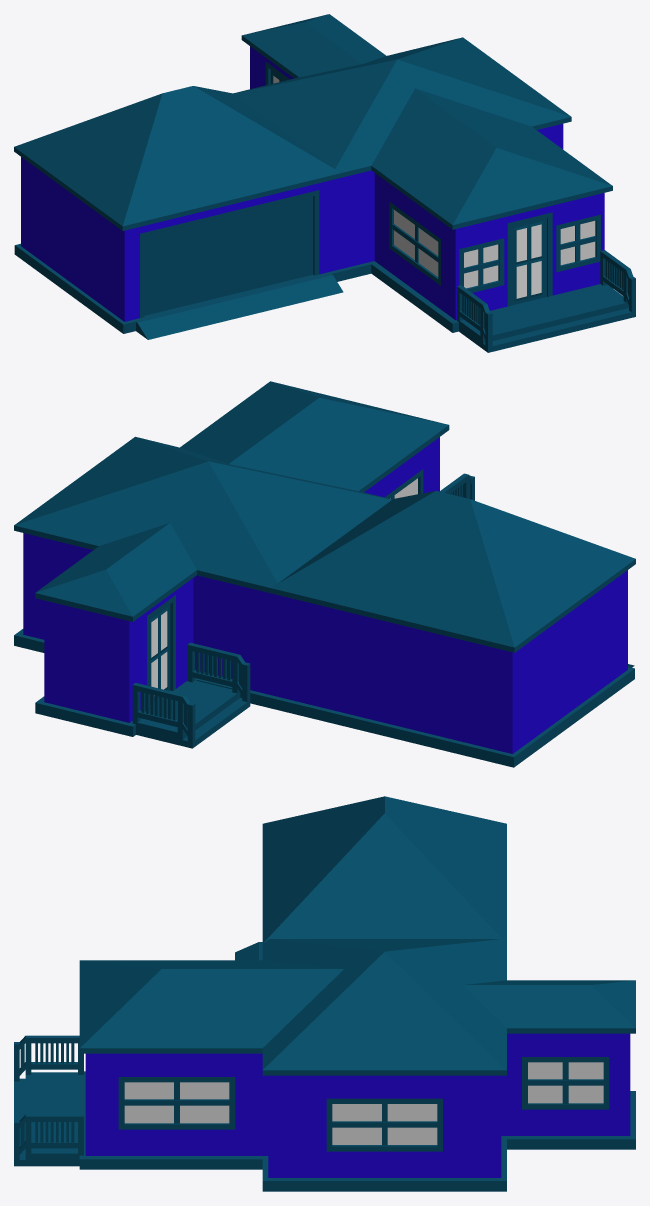
Rendered from House #23.fbx.
3 views of the same model, one above another, from view 1: azimuth 30°, elevation 25°; view 2: azimuth 150°, elevation 25°; view 3: azimuth 270°, elevation 25° (orthographic). The views are drawn at different scales.
Visible parts, largest first — view 1: building_001; view 2: building_001; view 3: building_001.
Boxes of the visible parts, x1,y1,x2,y2 form: building_001: (14, 14, 635, 352); building_001: (14, 381, 635, 767); building_001: (14, 796, 635, 1191).
Size of the model in its own units: 1002 by 380 by 1068.
